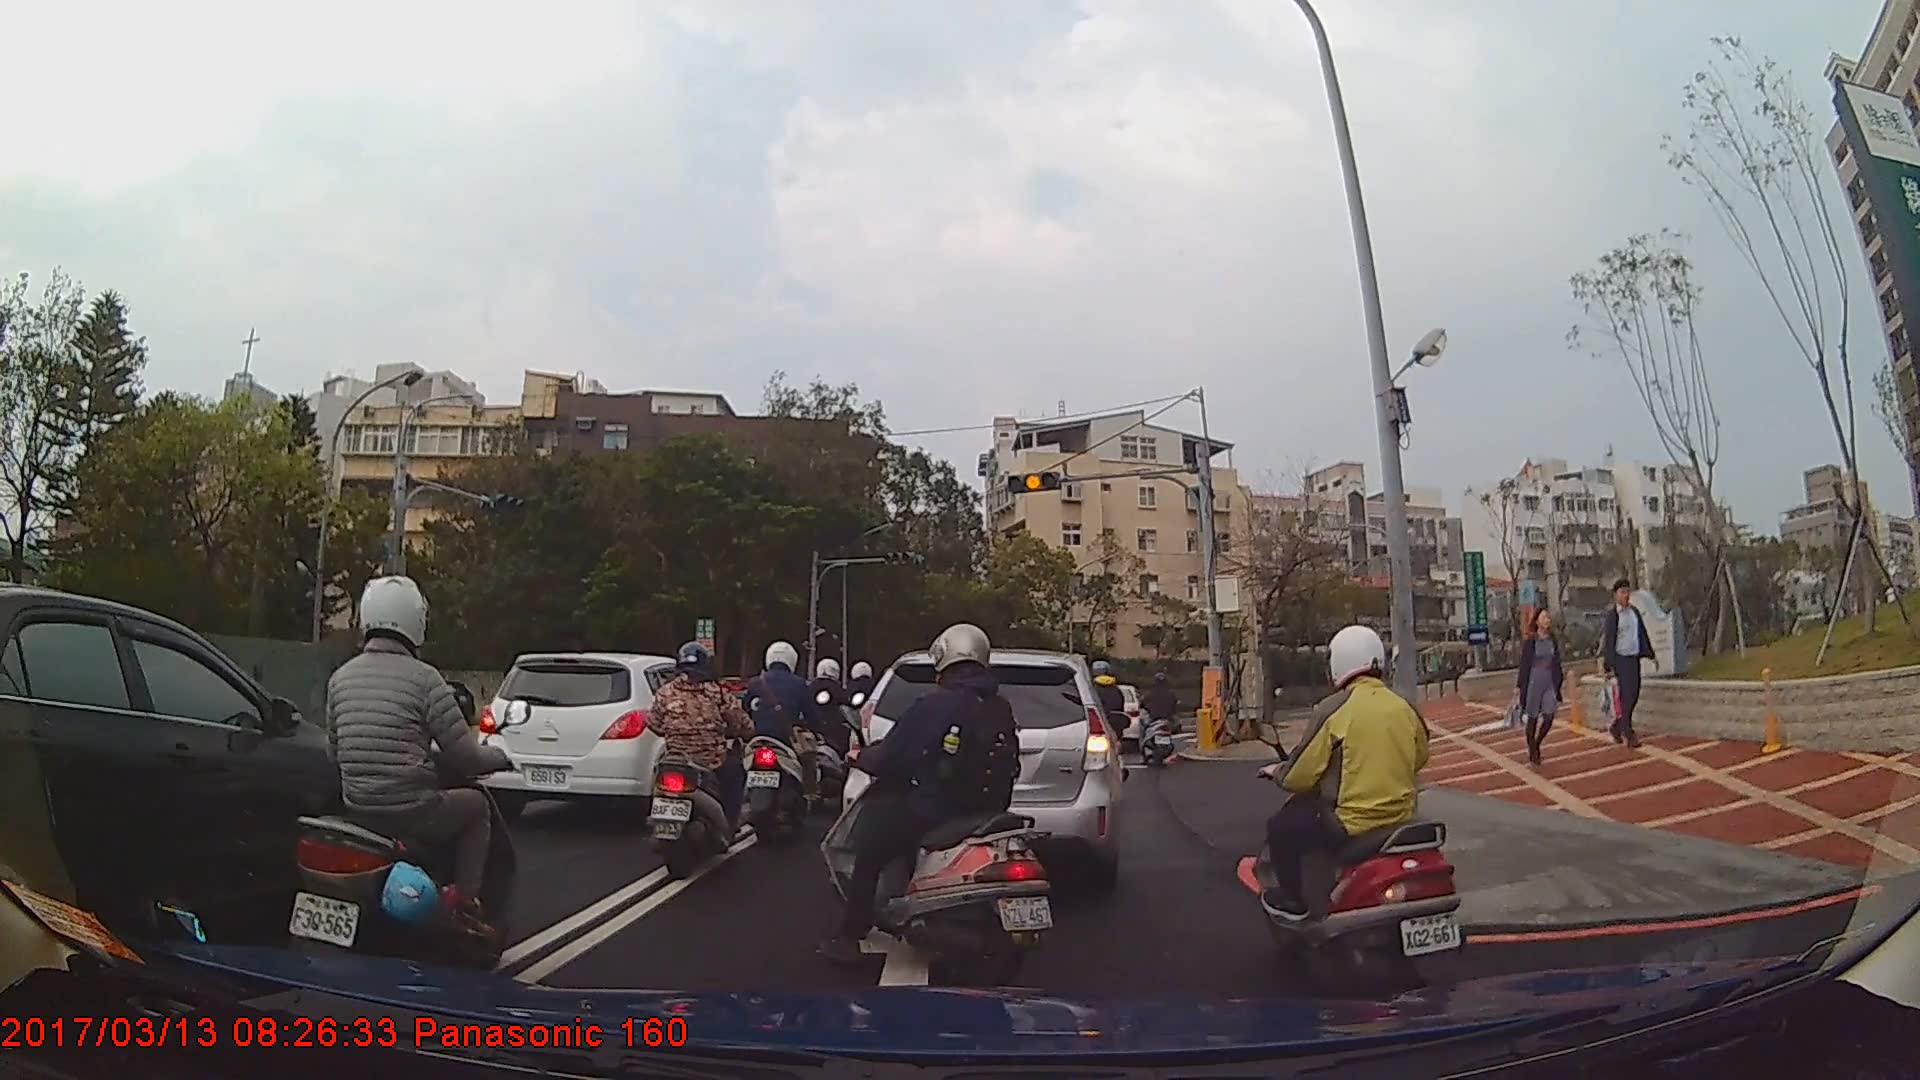pedestrian: (1503, 607, 1570, 773), (1595, 578, 1662, 746)
rider: (284, 572, 523, 1001), (817, 622, 1057, 992), (1256, 625, 1472, 1005), (644, 640, 753, 882), (733, 635, 829, 843), (805, 657, 860, 798), (1077, 657, 1133, 793), (1141, 673, 1180, 761)
vehicle: (0, 581, 402, 955), (843, 645, 1119, 887), (476, 649, 745, 823)
